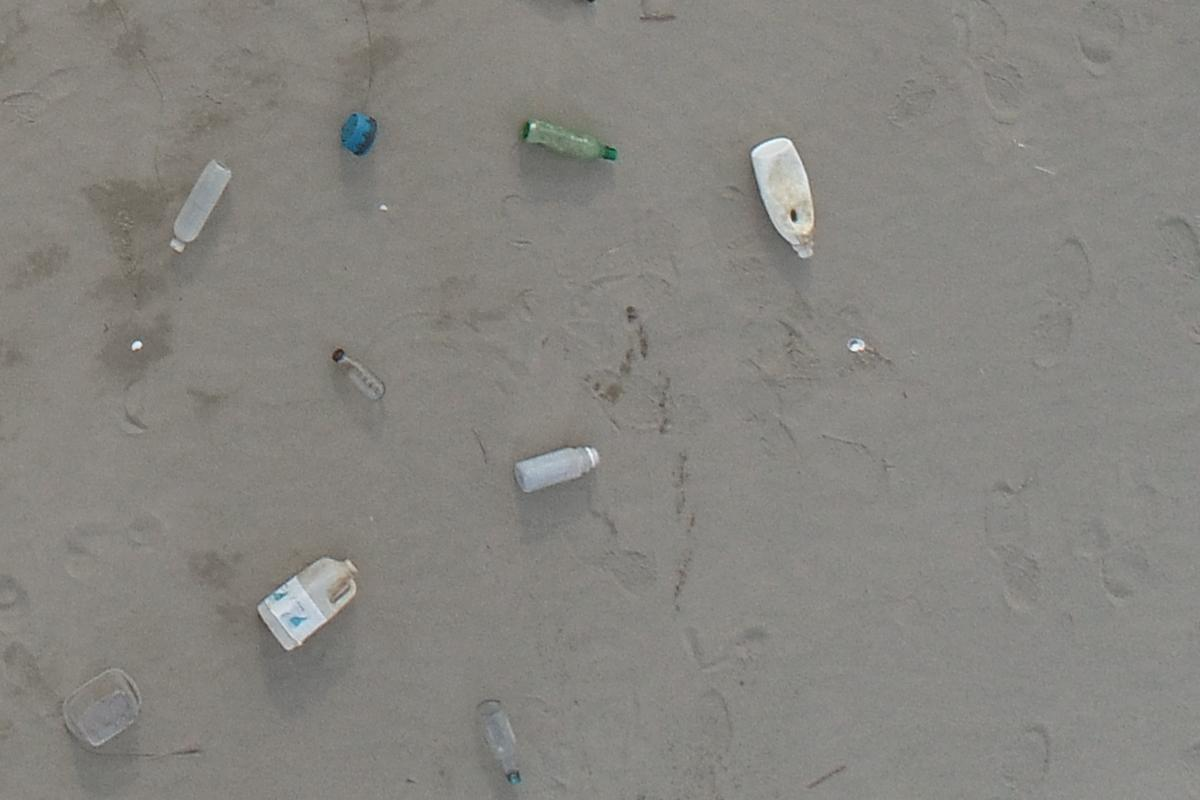(11)Glass: (472, 696, 526, 787), (328, 348, 386, 402)
(11)PET_Bottle: (166, 158, 231, 252), (513, 444, 605, 494), (519, 121, 619, 163)
(11)Plastic_ETC: (256, 556, 364, 654), (750, 135, 820, 262), (62, 667, 143, 752)
